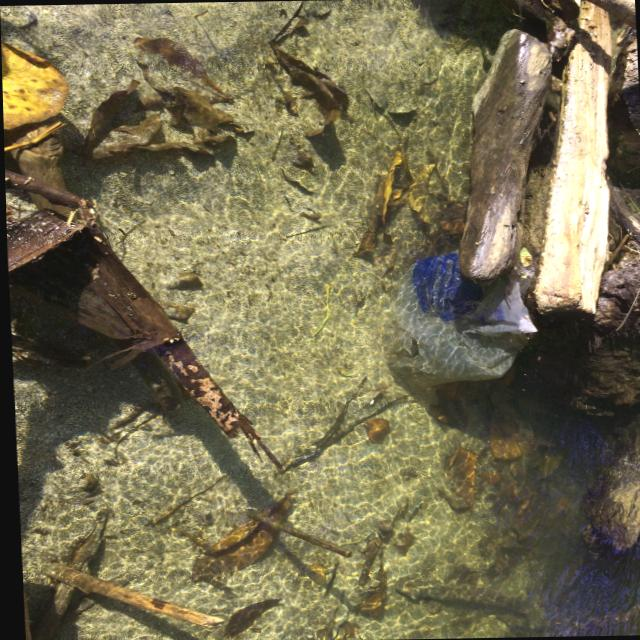Plastic: (369, 238, 546, 403)
